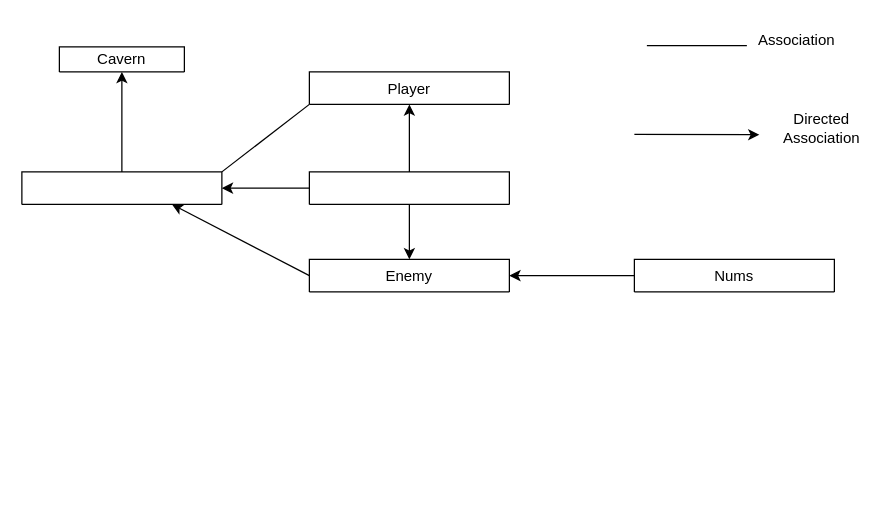
Image size: 881x520. Some labels were removed from this diagram. Here are the shapes that lost their labels. From the top down, the centre of each, then its label:
At point (121, 187): "Room".
At point (408, 187): "Point".
